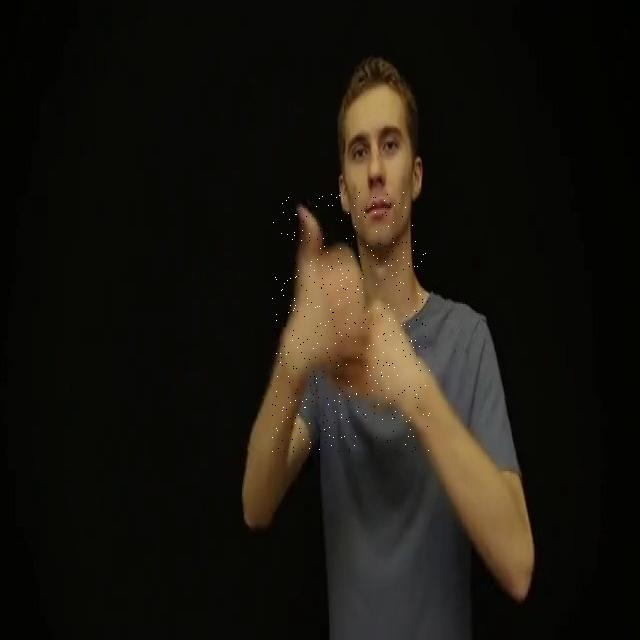bread: (272, 192, 430, 452)
